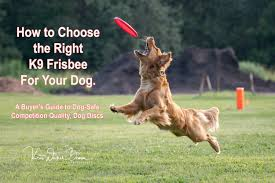disc: (113, 16, 139, 40)
